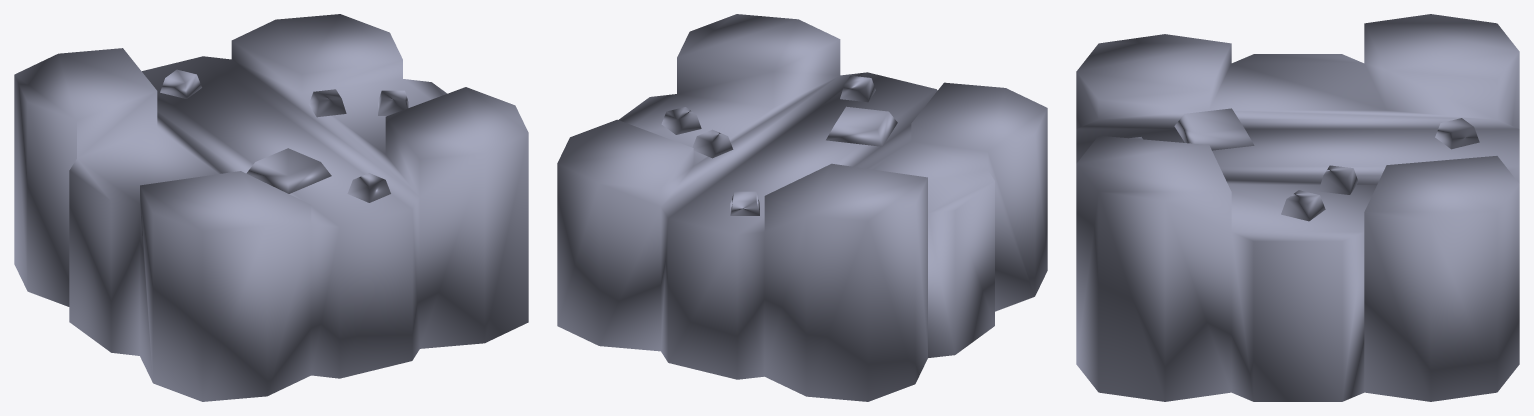
Rendered from kenney_mini-dungeon__rocks.fbx.
The picture shows the model from 3 angles, left to right: view 1: azimuth 30°, elevation 25°; view 2: azimuth 150°, elevation 25°; view 3: azimuth 270°, elevation 25°; orthographic projection. The views are drawn at different scales.
Visible parts, largest first — view 1: kenney_mini-dungeon__rocks__cave_stone; view 2: kenney_mini-dungeon__rocks__cave_stone; view 3: kenney_mini-dungeon__rocks__cave_stone.
Part boxes in pixels (x1,y1,x2,y2): kenney_mini-dungeon__rocks__cave_stone: (14,14,528,401); kenney_mini-dungeon__rocks__cave_stone: (557,14,1047,401); kenney_mini-dungeon__rocks__cave_stone: (1076,14,1519,401).
Bounding box in the file's own units: 3.57 × 1.79 × 3.57.
